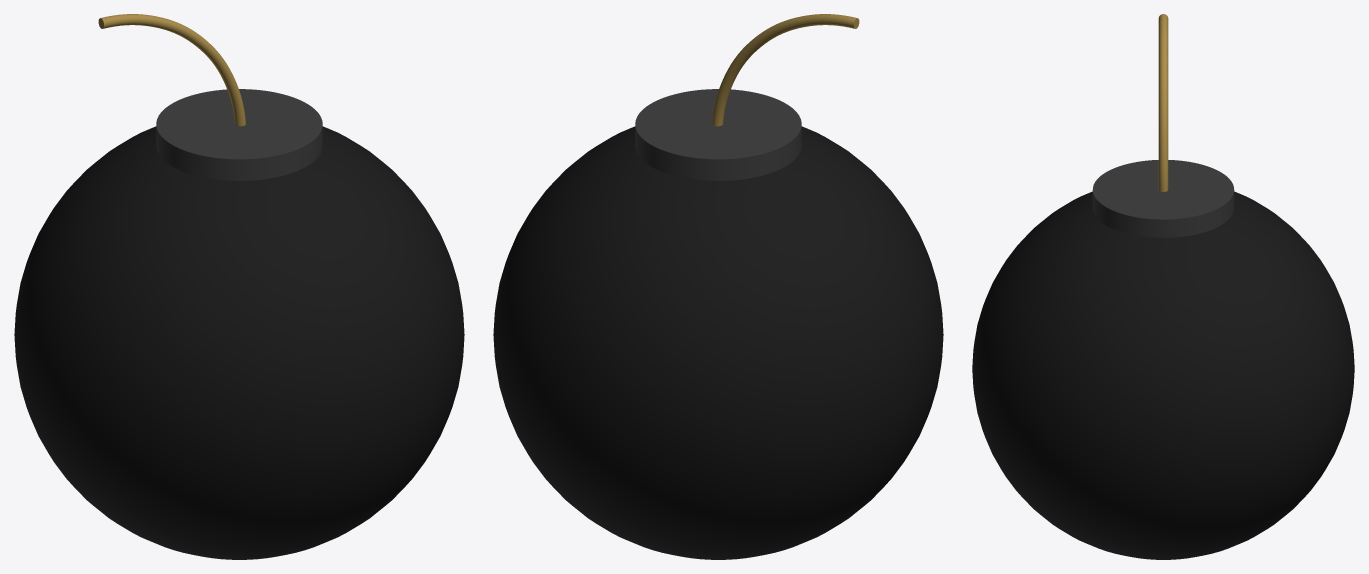
File: Bomb.fbx
3 views of the same model, side by side, from view 1: azimuth 30°, elevation 25°; view 2: azimuth 150°, elevation 25°; view 3: azimuth 270°, elevation 25° (orthographic). The views are drawn at different scales.
Parts seen in each view (by area): view 1: Sweep_1, Sphere, Sweep, Cylinder; view 2: Sweep_1, Sphere, Sweep, Cylinder; view 3: Sweep_1, Sphere, Sweep, Cylinder.
Boxes of the visible parts, x1,y1,x2,y2 form: Sweep_1: (14, 14, 464, 559); Sphere: (16, 128, 463, 559); Sweep: (99, 14, 245, 126); Cylinder: (156, 89, 322, 179); Sweep_1: (493, 14, 943, 559); Sphere: (493, 128, 943, 559); Sweep: (712, 14, 858, 125); Cylinder: (635, 89, 800, 179); Sweep_1: (972, 14, 1354, 559); Sphere: (972, 195, 1354, 559); Sweep: (1158, 14, 1168, 191); Cylinder: (1092, 161, 1234, 235).
Size of the model in its own units: 200 by 272 by 200.
